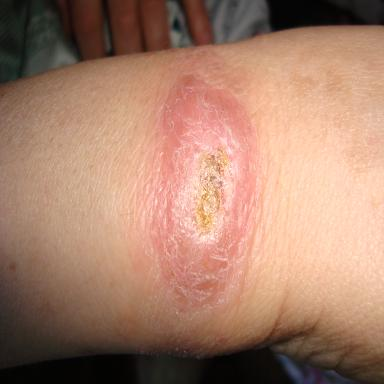Leishmanios: (151, 75, 260, 310)
